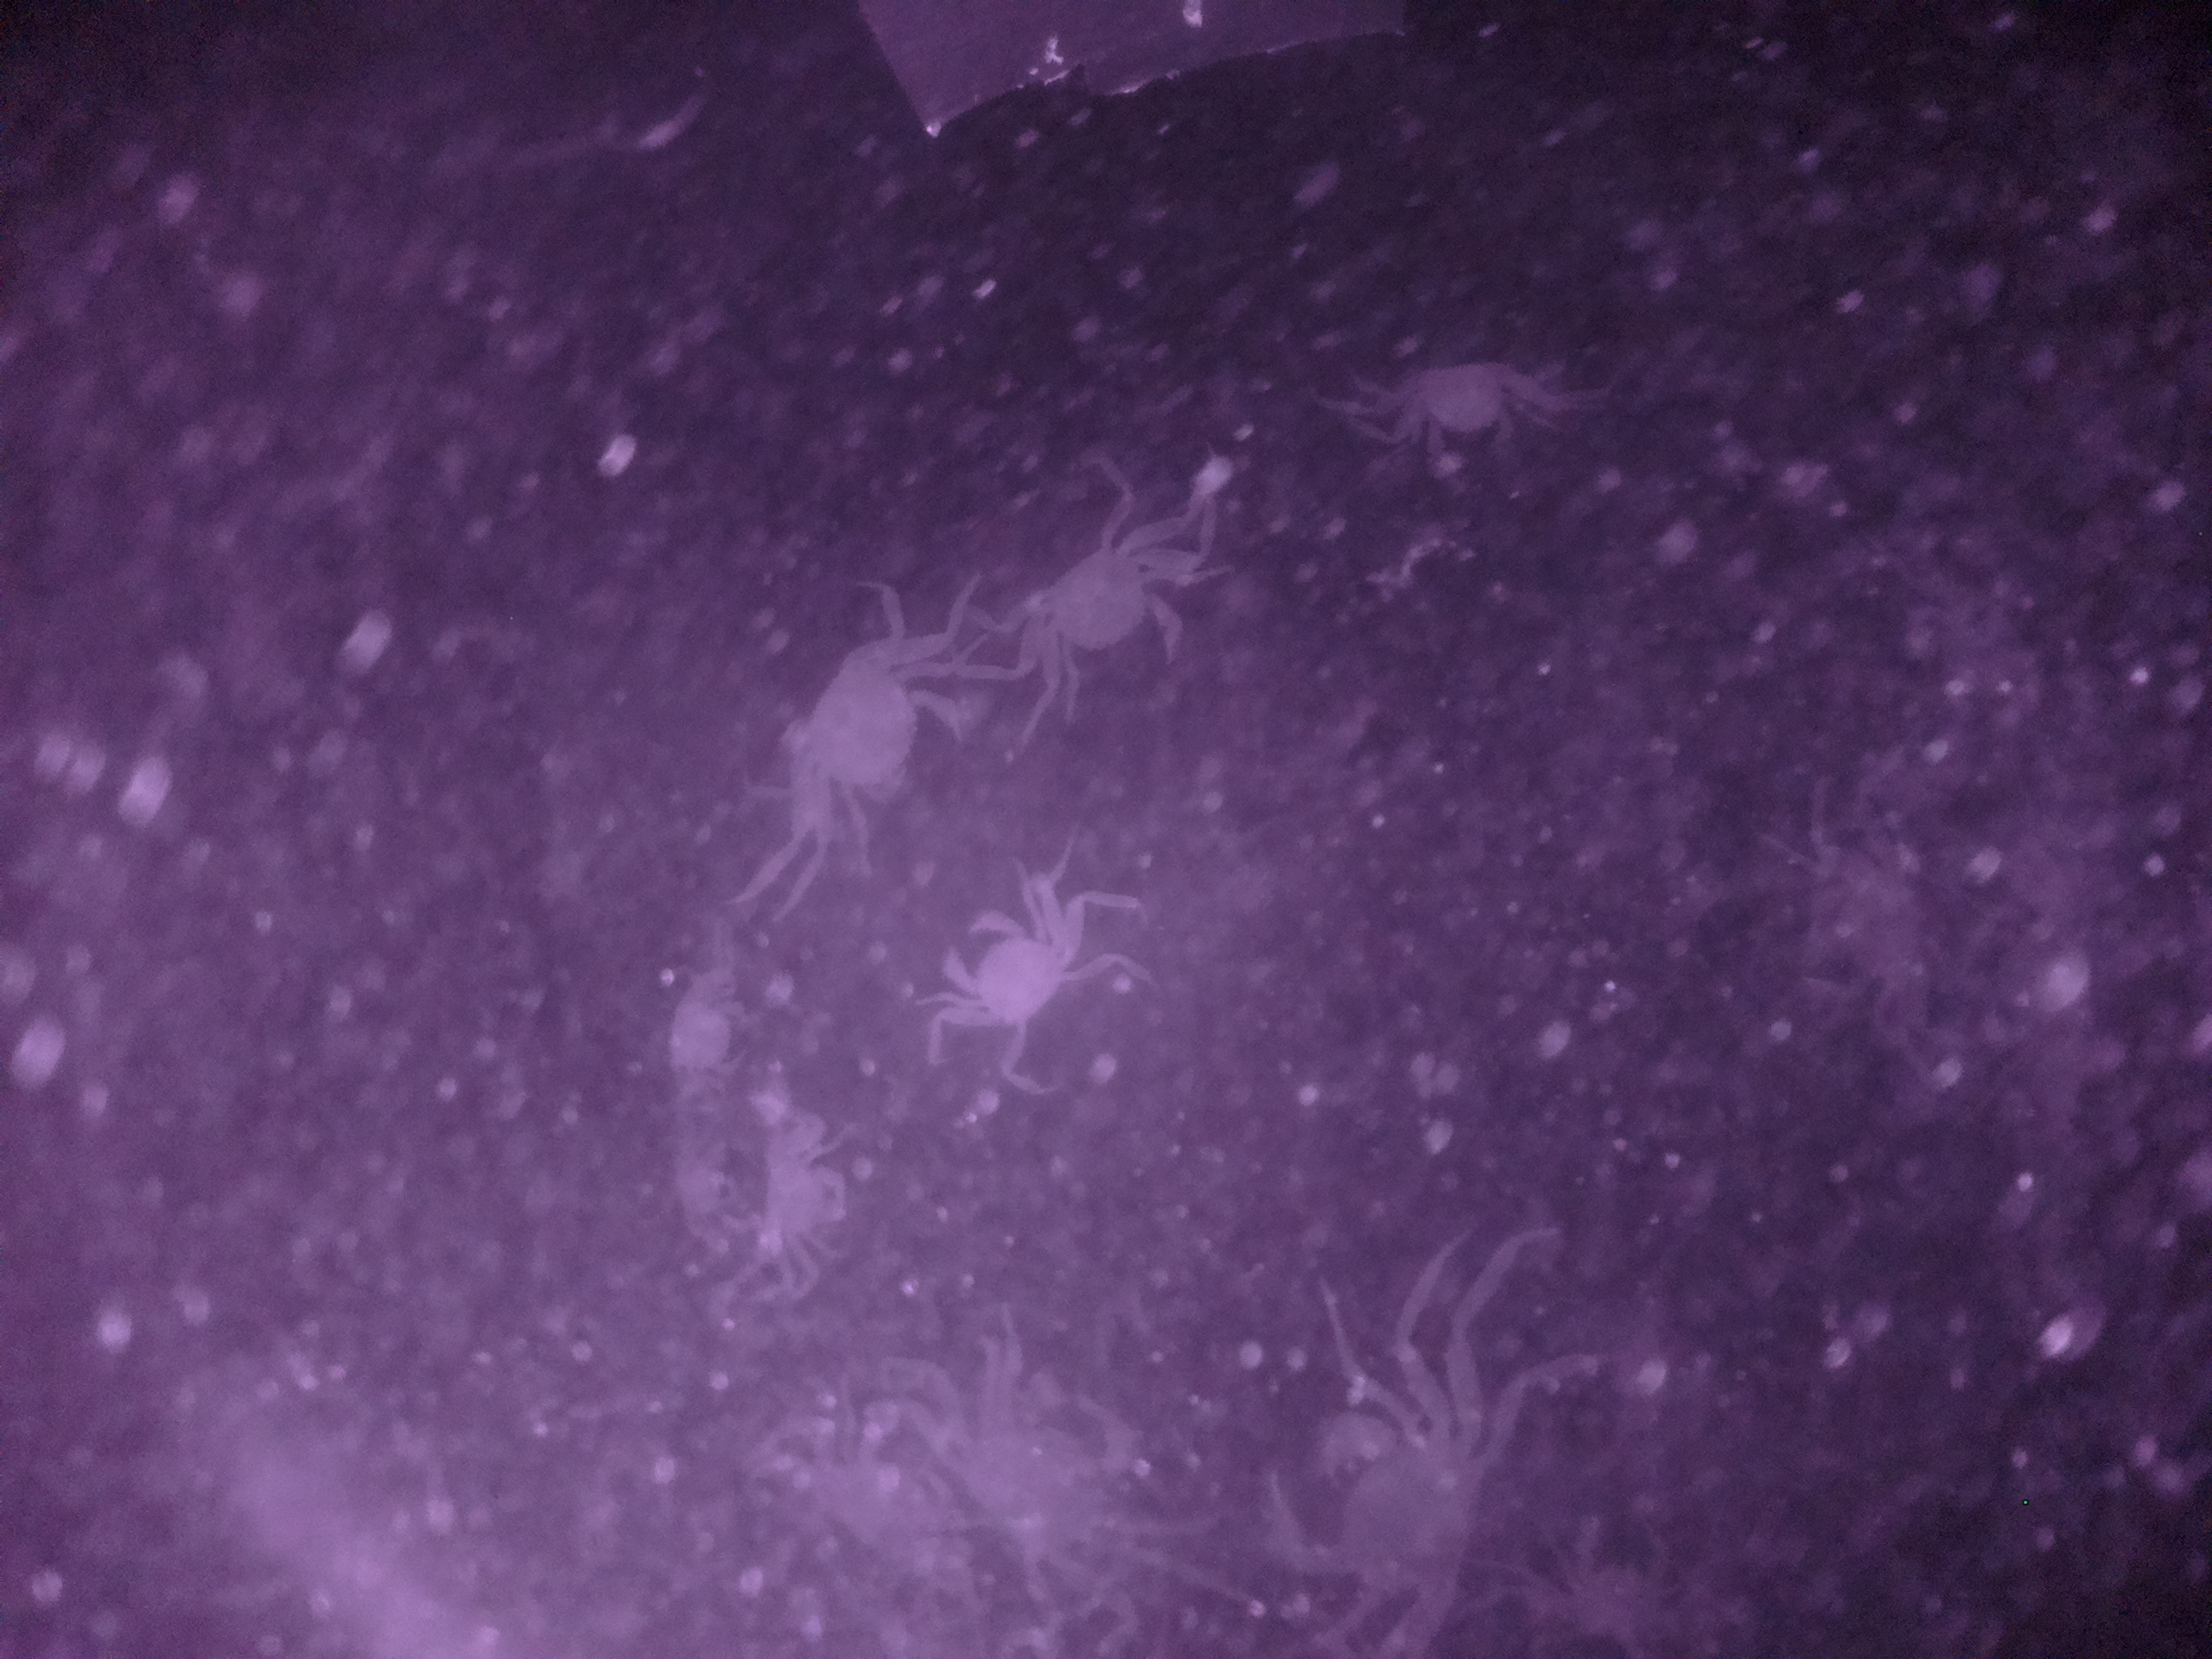Crab: (996, 504, 1209, 718), (770, 622, 963, 831), (916, 884, 1090, 1065), (1359, 336, 1564, 464)
